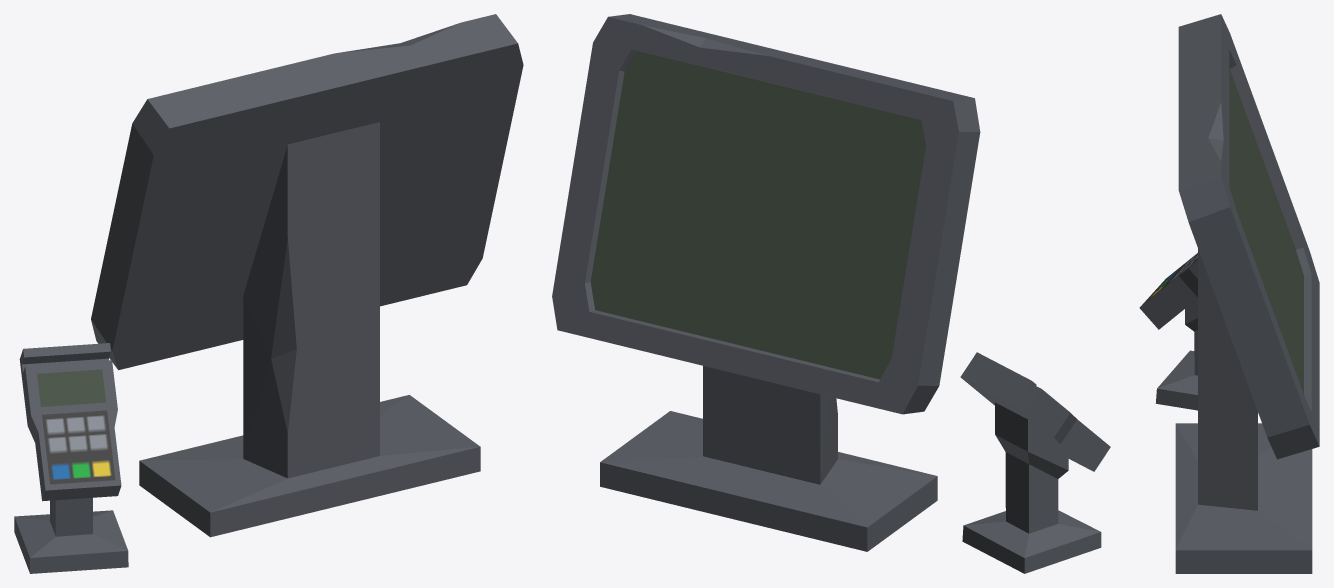
Rendered from SM_Prop_ShopCheckout_01.fbx.
3 renders of one model, left to right at view 1: azimuth 30°, elevation 25°; view 2: azimuth 150°, elevation 25°; view 3: azimuth 270°, elevation 25°, orthographic. The views are drawn at different scales.
Visible parts, largest first — view 1: SM_Prop_ShopCheckout_01; view 2: SM_Prop_ShopCheckout_01; view 3: SM_Prop_ShopCheckout_01.
Part boxes in pixels (left/top/right/bottom): SM_Prop_ShopCheckout_01: left=14, top=14, right=523, bottom=573; SM_Prop_ShopCheckout_01: left=552, top=14, right=1110, bottom=573; SM_Prop_ShopCheckout_01: left=1139, top=14, right=1319, bottom=573.
Bounding box in the file's own units: 69.08 × 57.68 × 22.73.
